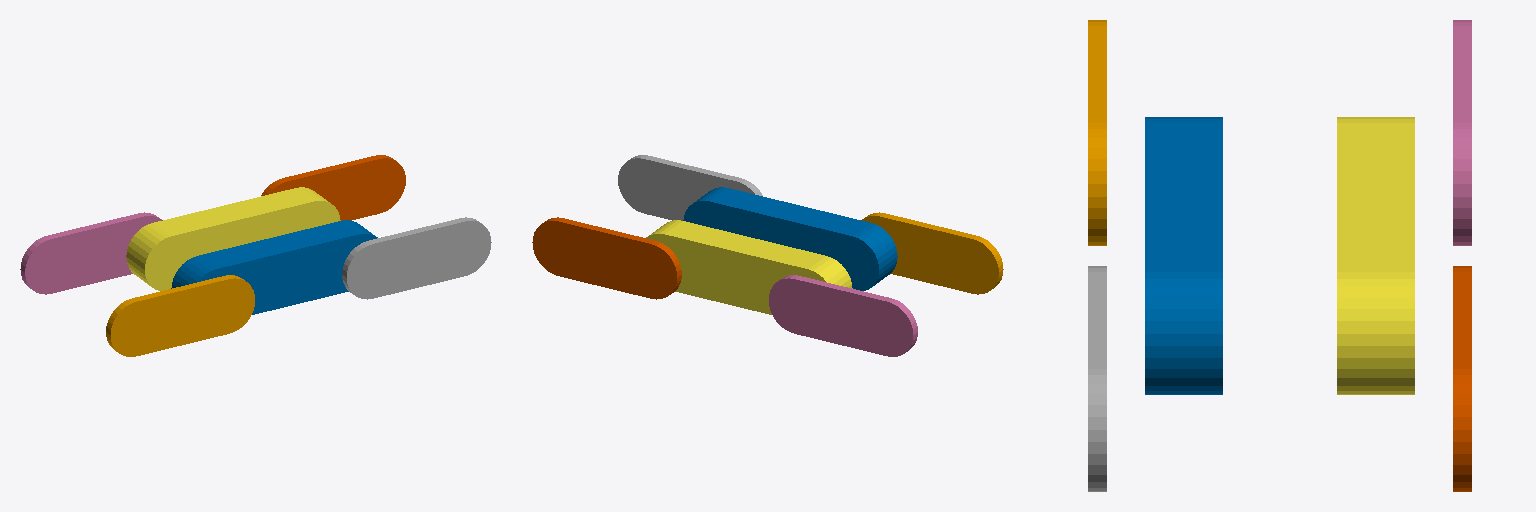
robot.urdf — crawler_body:
<?xml version="1.0" ?>
<!-- =================================================================================== -->
<!-- |    This document was autogenerated by xacro from crawler_model.xacro            | -->
<!-- |    EDITING THIS FILE BY HAND IS NOT RECOMMENDED                                 | -->
<!-- =================================================================================== -->
<robot name="crawler_body">
  <material name="body_colors">
    <color rgba="0.6 0.6 0.6 1.0"/>
  </material>
  <material name="flipper_colors">
    <color rgba="0.6 0.6 0.6 1"/>
  </material>
  <material name="flipper_belt_colors">
    <color rgba="0.6 0.6 0.6 1"/>
  </material>
  <link name="base_footprint"/>
  <joint name="plane2base" type="fixed">
    <parent link="base_footprint"/>
    <child link="base_link"/>
    <origin rpy="0 0 0" xyz="0 0 0.088"/>
  </joint>
  <link name="base_link"/>
  <!-- <xacro:property name="val" value="1000"/> -->
  <joint name="2main_body" type="fixed">
    <parent link="base_link"/>
    <child link="main_body"/>
    <origin rpy="0 0 0" xyz="0 0 0"/>
  </joint>
  <joint name="mainbelt_left_joint" type="fixed">
    <parent link="main_body"/>
    <child link="mainbelt_left"/>
    <origin rpy="0 0 0" xyz="0 0.122 0"/>
    <limit effort="1000" lower="-100" upper="100" velocity="1.0"/>
    <axis xyz="0 1 0"/>
  </joint>
  <joint name="mainbelt_right_joint" type="fixed">
    <parent link="main_body"/>
    <child link="mainbelt_right"/>
    <origin rpy="0 0 0" xyz="0 -0.122 0"/>
    <limit effort="1000" lower="-100" upper="100" velocity="1.0"/>
    <axis xyz="0 1 0"/>
  </joint>
  <link name="main_body">
    <!-- <visual>
      <origin rpy="3.141592653589793 0 0" xyz="0 0 0"/>
      <geometry>
        <mesh filename="package://nitro_discription/meshes/body/main_crawler.stl" scale="0.001 0.001 0.001"/>
      </geometry>
      <material name="body_colors"/>
    </visual> -->
    <inertial>
      <mass value="33"/>
      <inertia ixx="0.42295" ixy="0.0" ixz="0.0" iyy="0.733975" iyz="0.0" izz="1.063975"/>
    </inertial>
  </link>
  <link name="mainbelt_left">
    <collision>
      <origin rpy="0 0 0" xyz="0 0 0"/>
      <geometry>
        <box size="0.45 0.1 0.164"/>
      </geometry>
    </collision>
    <collision>
      <origin rpy="1.5707963267948966 0 0" xyz="0.225 0 0"/>
      <geometry>
        <cylinder length="0.1" radius="0.082"/>
      </geometry>
    </collision>
    <collision>
      <origin rpy="1.5707963267948966 0 0" xyz="-0.225 0 0"/>
      <geometry>
        <cylinder length="0.1" radius="0.082"/>
      </geometry>
    </collision>
    <visual>
      <origin rpy="0 0 0" xyz="0 0 0"/>
      <geometry>
        <box size="0.45 0.1 0.164"/>
      </geometry>
    </visual>
    <visual>
      <origin rpy="1.5707963267948966 0 0" xyz="0.225 0 0"/>
      <geometry>
        <cylinder length="0.1" radius="0.082"/>
      </geometry>
    </visual>
    <visual>
      <origin rpy="1.5707963267948966 0 0" xyz="-0.225 0 0"/>
      <geometry>
        <cylinder length="0.1" radius="0.082"/>
      </geometry>
    </visual>
  </link>
  <link name="mainbelt_right">
    <collision>
      <origin rpy="0 0 0" xyz="0 0 0"/>
      <geometry>
        <box size="0.45 0.1 0.164"/>
      </geometry>
    </collision>
    <collision>
      <origin rpy="1.5707963267948966 0 0" xyz="0.225 0 0"/>
      <geometry>
        <cylinder length="0.1" radius="0.082"/>
      </geometry>
    </collision>
    <collision>
      <origin rpy="1.5707963267948966 0 0" xyz="-0.225 0 0"/>
      <geometry>
        <cylinder length="0.1" radius="0.082"/>
      </geometry>
    </collision>

    <visual>
      <origin rpy="0 0 0" xyz="0 0 0"/>
      <geometry>
      <box size="0.45 0.1 0.164"/>
      </geometry>
    </visual>
    <visual>
      <origin rpy="1.5707963267948966 0 0" xyz="0.225 0 0"/>
      <geometry>
      <cylinder length="0.1" radius="0.082"/>
      </geometry>
    </visual>
    <visual>
      <origin rpy="1.5707963267948966 0 0" xyz="-0.225 0 0"/>
      <geometry>
      <cylinder length="0.1" radius="0.082"/>
      </geometry>
    </visual>

  </link>
  <transmission name="mainbelt_left_joint_trans">
    <type>transmission_interface/SimpleTransmission</type>
    <joint name="mainbelt_left_joint">
      <hardwareInterface>hardware_interface/VelocityJointInterface</hardwareInterface>
    </joint>
    <actuator name="mainbelt_left_joint_motor">
      <hardwareInterface>hardware_interface/VelocityJointInterface</hardwareInterface>
    </actuator>
  </transmission>
  <transmission name="mainbelt_right_joint_trans">
    <type>transmission_interface/SimpleTransmission</type>
    <joint name="mainbelt_right_joint">
      <hardwareInterface>hardware_interface/VelocityJointInterface</hardwareInterface>
    </joint>
    <actuator name="mainbelt_right_joint_motor">
      <hardwareInterface>hardware_interface/VelocityJointInterface</hardwareInterface>
    </actuator>
  </transmission>
  <gazebo reference="mainbelt_left_joint">
    <material>Gazebo/Red</material>
  </gazebo>
  <gazebo reference="mainbelt_right_joint">
    <material>Gazebo/Red</material>
  </gazebo>
  <!--pole-->
  <joint name="joint_left_front" type="revolute">
    <parent link="main_body"/>
    <child link="left_front"/>
    <axis xyz="0 1 0"/>
    <limit effort="10000" lower="-6.283184" upper="6.283184" velocity="1"/>
    <origin rpy="3.141592653589793 0.0 3.141592653589793" xyz="0.225 0.184 0.0"/>
  </joint>
  <!--belt-->
  <!--<joint name="${LR}_${FR}2flipper_belt" type="fixed">
      <parent link="${LR}_${FR}"/>
      <child  link="flipper_belt_${LR}_${FR}"/>
      <origin xyz="0 0 0" rpy="0 0 0"/>
    </joint>
    -->
  <link name="left_front">
    <material>
      <color rgba="1 1 1 1"/>
    </material>
    <!-- <visual>
      <geometry>
        <mesh filename="package://nitro_discription/meshes/body/flipper2024_newbelt.stl" scale="0.001 0.001 0.001"/>
      </geometry>
      <material name="flipper_colors"/>
    </visual> -->
    <visual>
      <origin rpy="0 0 0" xyz="-0.145 0.048 0"/>
      <geometry>
      <box size="0.29 0.025 0.164"/>
      </geometry>
    </visual>
    <visual>
      <origin rpy="1.5707963267948966 0 0" xyz="0 0.048 0"/>
      <geometry>
      <cylinder length="0.025" radius="0.082"/>
      </geometry>
    </visual>
    <visual>
      <origin rpy="1.5707963267948966 0 0" xyz="-0.29 0.048 0"/>
      <geometry>
      <cylinder length="0.025" radius="0.082"/>
      </geometry>
    </visual>

    <!-- <collision>
        <geometry>
          <mesh filename="package://nitro_discription/meshes/body/flipper2024_newbelt.stl" scale="0.001 0.001 0.001"/>
        </geometry>
      </collision>-->
    <collision>
      <origin rpy="0 0 0" xyz="-0.145 0.048 0"/>
      <geometry>
        <box size="0.29 0.025 0.164"/>
      </geometry>
    </collision>
    <collision>
      <origin rpy="1.5707963267948966 0 0" xyz="0 0.048 0"/>
      <geometry>
        <cylinder length="0.025" radius="0.082"/>
      </geometry>
    </collision>
    <collision>
      <origin rpy="1.5707963267948966 0 0" xyz="-0.29 0.048 0"/>
      <geometry>
        <cylinder length="0.025" radius="0.082"/>
      </geometry>
    </collision>
    <inertial>
      <origin rpy="0 0 0" xyz="-0.14 0.048 0"/>
      <mass value="1.5"/>
      <inertia ixx="0.0030125" ixy="0.0" ixz="0.0" iyy="0.01406" iyz="0.0" izz="0.01145"/>
    </inertial>
  </link>
  <transmission name="trans_left_front">
    <type>transmission_interface/SimpleTransmission</type>
    <joint name="joint_left_front">
      <hardwareInterface>hardware_interface/PositionJointInterface</hardwareInterface>
    </joint>
    <actuator name="autuator_left_front">
      <hardwareInterface>hardware_interface/PositionJointInterface</hardwareInterface>
      <mechanicalReduction>1</mechanicalReduction>
    </actuator>
  </transmission>
  <!--pole-->
  <joint name="joint_left_rear" type="revolute">
    <parent link="main_body"/>
    <child link="left_rear"/>
    <axis xyz="0 -1 0"/>
    <limit effort="10000" lower="-6.283184" upper="6.283184" velocity="1"/>
    <origin rpy="3.141592653589793 -3.141592653589793 3.141592653589793" xyz="-0.225 0.184 0.0"/>
  </joint>
  <!--belt-->
  <!--<joint name="${LR}_${FR}2flipper_belt" type="fixed">
      <parent link="${LR}_${FR}"/>
      <child  link="flipper_belt_${LR}_${FR}"/>
      <origin xyz="0 0 0" rpy="0 0 0"/>
    </joint>
    -->
  <link name="left_rear">
    <material>
      <color rgba="1 1 1 1"/>
    </material>
    <!-- <visual>
      <geometry>
        <mesh filename="package://nitro_discription/meshes/body/flipper2024_newbelt.stl" scale="0.001 0.001 0.001"/>
      </geometry>
      <material name="flipper_colors"/>
    </visual> -->
    <!-- <collision>
        <geometry>
          <mesh filename="package://nitro_discription/meshes/body/flipper2024_newbelt.stl" scale="0.001 0.001 0.001"/>
        </geometry>
      </collision>-->

      <visual>
        <origin rpy="0 0 0" xyz="-0.145 0.048 0"/>
        <geometry>
        <box size="0.29 0.025 0.164"/>
        </geometry>
      </visual>
      <visual>
        <origin rpy="1.5707963267948966 0 0" xyz="0 0.048 0"/>
        <geometry>
        <cylinder length="0.025" radius="0.082"/>
        </geometry>
      </visual>
      <visual>
        <origin rpy="1.5707963267948966 0 0" xyz="-0.29 0.048 0"/>
        <geometry>
        <cylinder length="0.025" radius="0.082"/>
        </geometry>
      </visual>

    <collision>
      <origin rpy="0 0 0" xyz="-0.145 0.048 0"/>
      <geometry>
        <box size="0.29 0.025 0.164"/>
      </geometry>
    </collision>
    <collision>
      <origin rpy="1.5707963267948966 0 0" xyz="0 0.048 0"/>
      <geometry>
        <cylinder length="0.025" radius="0.082"/>
      </geometry>
    </collision>
    <collision>
      <origin rpy="1.5707963267948966 0 0" xyz="-0.29 0.048 0"/>
      <geometry>
        <cylinder length="0.025" radius="0.082"/>
      </geometry>
    </collision>
    <inertial>
      <origin rpy="0 0 0" xyz="-0.14 0.048 0"/>
      <mass value="1.5"/>
      <inertia ixx="0.0030125" ixy="0.0" ixz="0.0" iyy="0.01406" iyz="0.0" izz="0.01145"/>
    </inertial>
  </link>
  <transmission name="trans_left_rear">
    <type>transmission_interface/SimpleTransmission</type>
    <joint name="joint_left_rear">
      <hardwareInterface>hardware_interface/PositionJointInterface</hardwareInterface>
    </joint>
    <actuator name="autuator_left_rear">
      <hardwareInterface>hardware_interface/PositionJointInterface</hardwareInterface>
      <mechanicalReduction>1</mechanicalReduction>
    </actuator>
  </transmission>
  <!--pole-->
  <joint name="joint_right_front" type="revolute">
    <parent link="main_body"/>
    <child link="right_front"/>
    <axis xyz="0 -1 0"/>
    <limit effort="10000" lower="-6.283184" upper="6.283184" velocity="1"/>
    <origin rpy="0.0 0.0 3.141592653589793" xyz="0.225 -0.184 0.0"/>
  </joint>
  <!--belt-->
  <!--<joint name="${LR}_${FR}2flipper_belt" type="fixed">
      <parent link="${LR}_${FR}"/>
      <child  link="flipper_belt_${LR}_${FR}"/>
      <origin xyz="0 0 0" rpy="0 0 0"/>
    </joint>
    -->
  <link name="right_front">
    <material>
      <color rgba="1 1 1 1"/>
    </material>
    <!-- <visual>
      <geometry>
        <mesh filename="package://nitro_discription/meshes/body/flipper2024_newbelt.stl" scale="0.001 0.001 0.001"/>
      </geometry>
      <material name="flipper_colors"/>
    </visual> -->
    <!-- <collision>
        <geometry>
          <mesh filename="package://nitro_discription/meshes/body/flipper2024_newbelt.stl" scale="0.001 0.001 0.001"/>
        </geometry>
      </collision>-->

      <visual>
        <origin rpy="0 0 0" xyz="-0.145 0.048 0"/>
        <geometry>
        <box size="0.29 0.025 0.164"/>
        </geometry>
      </visual>
      <visual>
        <origin rpy="1.5707963267948966 0 0" xyz="0 0.048 0"/>
        <geometry>
        <cylinder length="0.025" radius="0.082"/>
        </geometry>
      </visual>
      <visual>
        <origin rpy="1.5707963267948966 0 0" xyz="-0.29 0.048 0"/>
        <geometry>
        <cylinder length="0.025" radius="0.082"/>
        </geometry>
      </visual>

    <collision>
      <origin rpy="0 0 0" xyz="-0.145 0.048 0"/>
      <geometry>
        <box size="0.29 0.025 0.164"/>
      </geometry>
    </collision>
    <collision>
      <origin rpy="1.5707963267948966 0 0" xyz="0 0.048 0"/>
      <geometry>
        <cylinder length="0.025" radius="0.082"/>
      </geometry>
    </collision>
    <collision>
      <origin rpy="1.5707963267948966 0 0" xyz="-0.29 0.048 0"/>
      <geometry>
        <cylinder length="0.025" radius="0.082"/>
      </geometry>
    </collision>
    <inertial>
      <origin rpy="0 0 0" xyz="-0.14 0.048 0"/>
      <mass value="1.5"/>
      <inertia ixx="0.0030125" ixy="0.0" ixz="0.0" iyy="0.01406" iyz="0.0" izz="0.01145"/>
    </inertial>
  </link>
  <transmission name="trans_right_front">
    <type>transmission_interface/SimpleTransmission</type>
    <joint name="joint_right_front">
      <hardwareInterface>hardware_interface/PositionJointInterface</hardwareInterface>
    </joint>
    <actuator name="autuator_right_front">
      <hardwareInterface>hardware_interface/PositionJointInterface</hardwareInterface>
      <mechanicalReduction>1</mechanicalReduction>
    </actuator>
  </transmission>
  <!--pole-->
  <joint name="joint_right_rear" type="revolute">
    <parent link="main_body"/>
    <child link="right_rear"/>
    <axis xyz="0 1 0"/>
    <limit effort="10000" lower="-6.283184" upper="6.283184" velocity="1"/>
    <origin rpy="0.0 -3.141592653589793 3.141592653589793" xyz="-0.225 -0.184 0.0"/>
  </joint>
  <!--belt-->
  <!--<joint name="${LR}_${FR}2flipper_belt" type="fixed">
      <parent link="${LR}_${FR}"/>
      <child  link="flipper_belt_${LR}_${FR}"/>
      <origin xyz="0 0 0" rpy="0 0 0"/>
    </joint>
    -->
  <link name="right_rear">
    <material>
      <color rgba="1 1 1 1"/>
    </material>
    <!-- <visual>
      <geometry>
        <mesh filename="package://nitro_discription/meshes/body/flipper2024_newbelt.stl" scale="0.001 0.001 0.001"/>
      </geometry>
      <material name="flipper_colors"/>
    </visual> -->
    <!-- <collision>
        <geometry>
          <mesh filename="package://nitro_discription/meshes/body/flipper2024_newbelt.stl" scale="0.001 0.001 0.001"/>
        </geometry>
      </collision>-->
      <visual>
        <origin rpy="0 0 0" xyz="-0.145 0.048 0"/>
        <geometry>
        <box size="0.29 0.025 0.164"/>
        </geometry>
      </visual>
      <visual>
        <origin rpy="1.5707963267948966 0 0" xyz="0 0.048 0"/>
        <geometry>
        <cylinder length="0.025" radius="0.082"/>
        </geometry>
      </visual>
      <visual>
        <origin rpy="1.5707963267948966 0 0" xyz="-0.29 0.048 0"/>
        <geometry>
        <cylinder length="0.025" radius="0.082"/>
        </geometry>
      </visual>

    <collision>
      <origin rpy="0 0 0" xyz="-0.145 0.048 0"/>
      <geometry>
        <box size="0.29 0.025 0.164"/>
      </geometry>
    </collision>
    <collision>
      <origin rpy="1.5707963267948966 0 0" xyz="0 0.048 0"/>
      <geometry>
        <cylinder length="0.025" radius="0.082"/>
      </geometry>
    </collision>
    <collision>
      <origin rpy="1.5707963267948966 0 0" xyz="-0.29 0.048 0"/>
      <geometry>
        <cylinder length="0.025" radius="0.082"/>
      </geometry>
    </collision>
    <inertial>
      <origin rpy="0 0 0" xyz="-0.14 0.048 0"/>
      <mass value="1.5"/>
      <inertia ixx="0.0030125" ixy="0.0" ixz="0.0" iyy="0.01406" iyz="0.0" izz="0.01145"/>
    </inertial>
  </link>
  <transmission name="trans_right_rear">
    <type>transmission_interface/SimpleTransmission</type>
    <joint name="joint_right_rear">
      <hardwareInterface>hardware_interface/PositionJointInterface</hardwareInterface>
    </joint>
    <actuator name="autuator_right_rear">
      <hardwareInterface>hardware_interface/PositionJointInterface</hardwareInterface>
      <mechanicalReduction>1</mechanicalReduction>
    </actuator>
  </transmission>
  <gazebo>
    <plugin filename="libgazebo_ros_control.so" name="gazebo_ros_control">
      <robotSimType>gazebo_ros_control/DefaultRobotHWSim</robotSimType>
      <legacyModeNS>false</legacyModeNS>
    </plugin>
  </gazebo>
</robot>

--- Render facts (derived) ---
The picture shows the robot from 3 angles, left to right: view 1: azimuth 30°, elevation 25°; view 2: azimuth 150°, elevation 25°; view 3: azimuth 270°, elevation 25°; orthographic projection.
Model crawler_body with 9 links and 8 joints (4 revolute, 4 fixed), rooted at base_footprint, posed every joint at zero.
Visible links, largest first — view 1: mainbelt_left, mainbelt_right, right_rear, right_front, left_rear, left_front; view 2: mainbelt_right, mainbelt_left, left_rear, left_front, right_rear, right_front; view 3: mainbelt_left, mainbelt_right, left_front, left_rear, right_front, right_rear.
Link boxes in pixels (left/top/right/bottom): mainbelt_left: left=126, top=187, right=340, bottom=290; mainbelt_right: left=171, top=220, right=377, bottom=314; right_rear: left=106, top=275, right=254, bottom=356; right_front: left=342, top=217, right=491, bottom=299; left_rear: left=20, top=212, right=162, bottom=294; left_front: left=261, top=155, right=405, bottom=220; mainbelt_right: left=683, top=187, right=897, bottom=290; mainbelt_left: left=646, top=220, right=852, bottom=314; left_rear: left=769, top=275, right=917, bottom=356; left_front: left=532, top=217, right=681, bottom=299; right_rear: left=861, top=212, right=1003, bottom=294; right_front: left=618, top=155, right=762, bottom=220; mainbelt_left: left=1337, top=117, right=1414, bottom=394; mainbelt_right: left=1145, top=117, right=1222, bottom=394; left_front: left=1453, top=266, right=1471, bottom=491; left_rear: left=1453, top=20, right=1471, bottom=245; right_front: left=1088, top=266, right=1106, bottom=491; right_rear: left=1088, top=20, right=1106, bottom=245.
Bounding box of the posed robot: 1.19 × 0.489 × 0.164 m (x, y, z).
Geometry: primitives only (box / cylinder / sphere), no mesh files.
